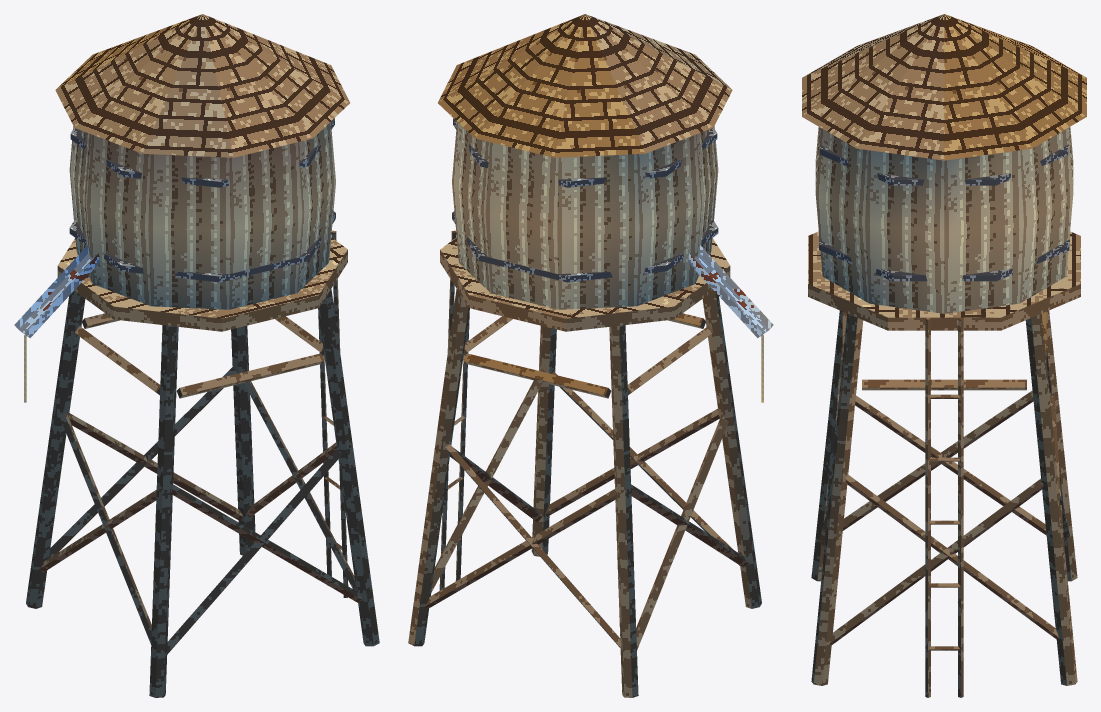
Rendered from wtown.water_tower.glb.
The picture shows the model from 3 angles, left to right: view 1: azimuth 30°, elevation 25°; view 2: azimuth 150°, elevation 25°; view 3: azimuth 270°, elevation 25°; orthographic projection.
Visible parts, largest first — view 1: kit_tank, kit_cap, kit_legs, kit_bracing, kit_bracing_x, kit_deck, kit_girts, kit_hoops, kit_spout, kit_ladder; view 2: kit_tank, kit_cap, kit_legs, kit_bracing_x, kit_bracing, kit_deck, kit_girts, kit_hoops, kit_spout, kit_ladder; view 3: kit_tank, kit_cap, kit_legs, kit_deck, kit_bracing_x, kit_bracing, kit_ladder, kit_hoops, kit_girts, kit_rungs.
Boxes of the visible parts, box(x1,y1,x2,y2) form: kit_tank: box(69, 122, 335, 309); kit_cap: box(55, 14, 349, 157); kit_legs: box(26, 289, 379, 697); kit_bracing: box(38, 381, 356, 654); kit_bracing_x: box(49, 367, 363, 644); kit_deck: box(57, 237, 347, 331); kit_girts: box(74, 313, 324, 398); kit_hoops: box(69, 118, 335, 282); kit_spout: box(14, 245, 99, 337); kit_ladder: box(318, 230, 348, 597); kit_tank: box(452, 122, 718, 309); kit_cap: box(438, 14, 732, 157); kit_legs: box(408, 289, 761, 697); kit_bracing_x: box(431, 368, 749, 648); kit_bracing: box(424, 371, 739, 649); kit_deck: box(440, 237, 730, 331); kit_girts: box(463, 313, 713, 398); kit_hoops: box(452, 118, 718, 282); kit_spout: box(688, 245, 773, 337); kit_ladder: box(439, 230, 469, 590); kit_tank: box(815, 127, 1073, 313); kit_cap: box(802, 14, 1086, 160); kit_legs: box(811, 310, 1077, 685); kit_deck: box(808, 231, 1080, 330); kit_bracing_x: box(824, 389, 1069, 639); kit_bracing: box(819, 393, 1063, 644); kit_ladder: box(925, 317, 963, 697); kit_hoops: box(819, 144, 1069, 281); kit_girts: box(842, 312, 1046, 390); kit_rungs: box(928, 394, 960, 650).
Bounding box in the file's own units: 5.69 × 10.37 × 4.34.
7 materials, 7 textured.
